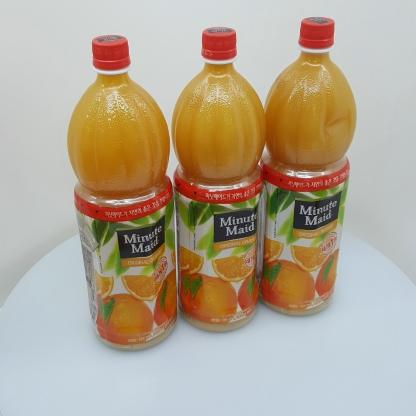------------1-5L: (67, 35, 178, 351), (171, 26, 267, 332), (259, 17, 357, 316)
